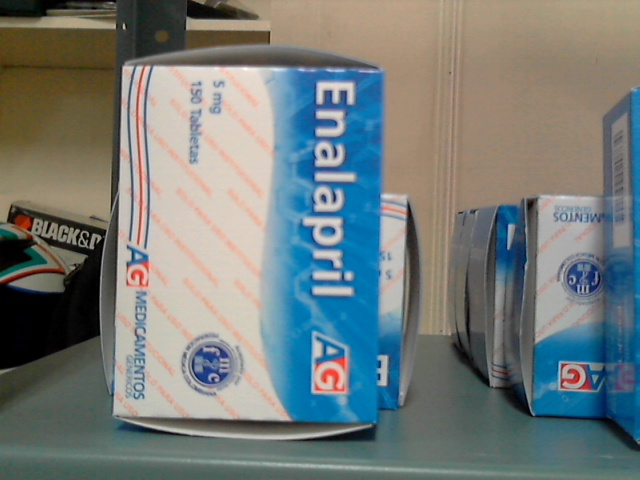AG: (111, 66, 383, 418)
